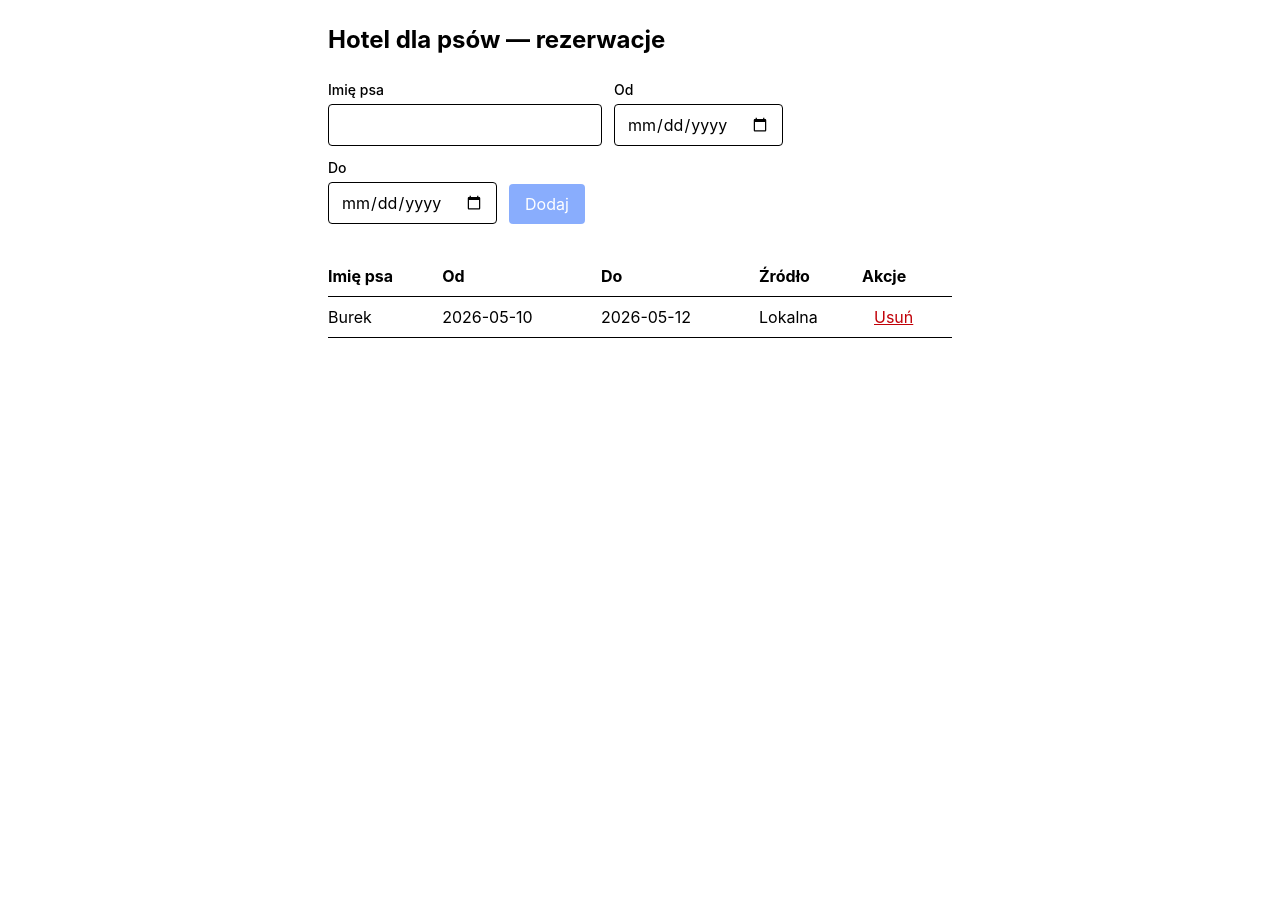
Scenario: Reservation list › keeps the delete dialog open with a retryable error when deletion fails
Step 1. Click the button with aria-label "Usuń rezerwację dla Burek" → (894, 317), box [874,305,913,329]
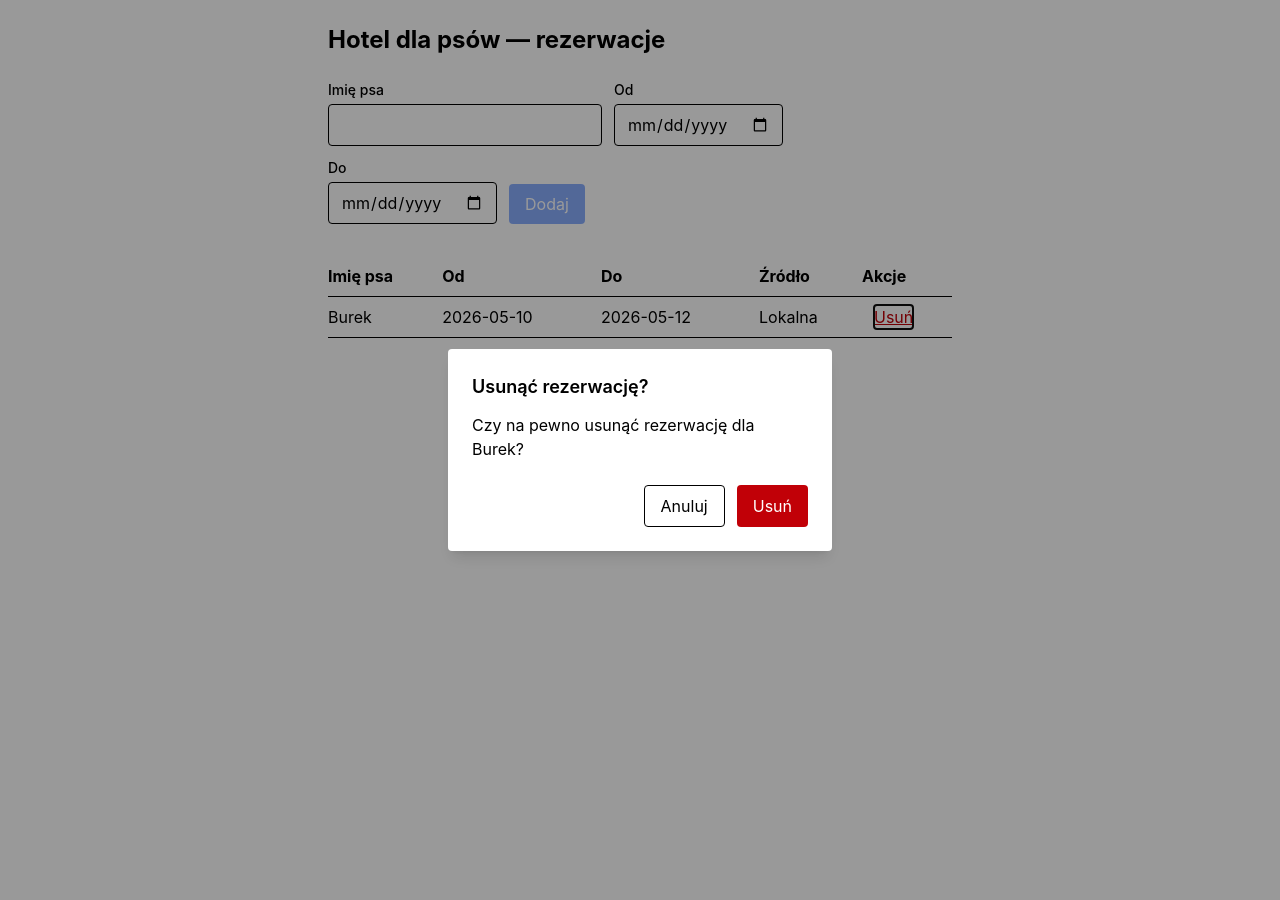
Step 2. Click the button "Usuń" → (772, 506), box [737,485,808,527]
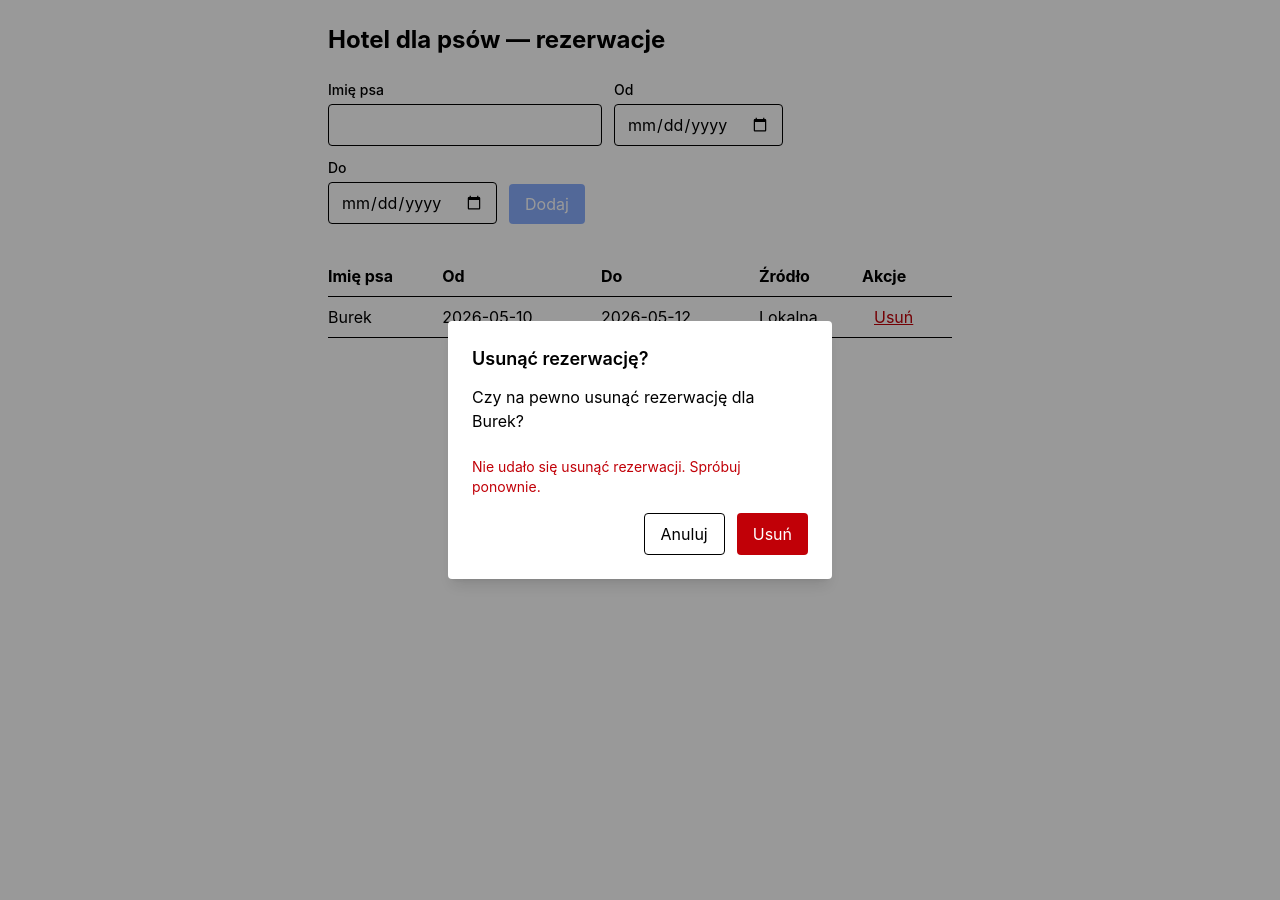
expect the row "Burek 2026-05-10 2026-05-12 Lokalna Usuń" is shown: met, box [328,296,952,338]
expect the dialog "Usunąć rezerwację" is shown: met, box [448,321,832,579]
expect the dialog "Usunąć rezerwację" shows "Nie udało się usunąć rezerwacji. Spróbuj ponownie.": met, box [472,458,741,495]
